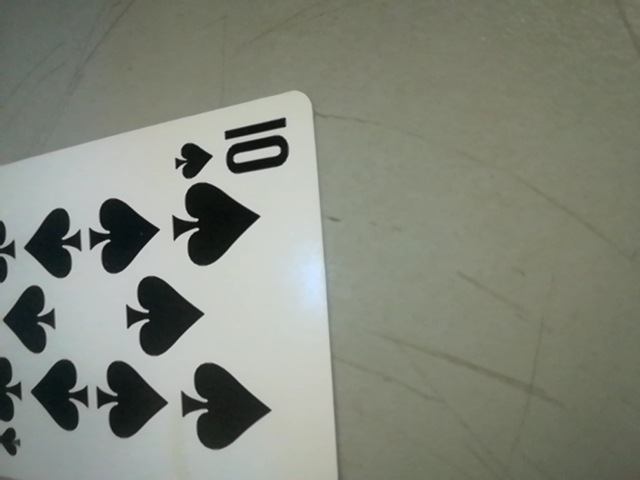ht 10: (169, 107, 290, 186)
